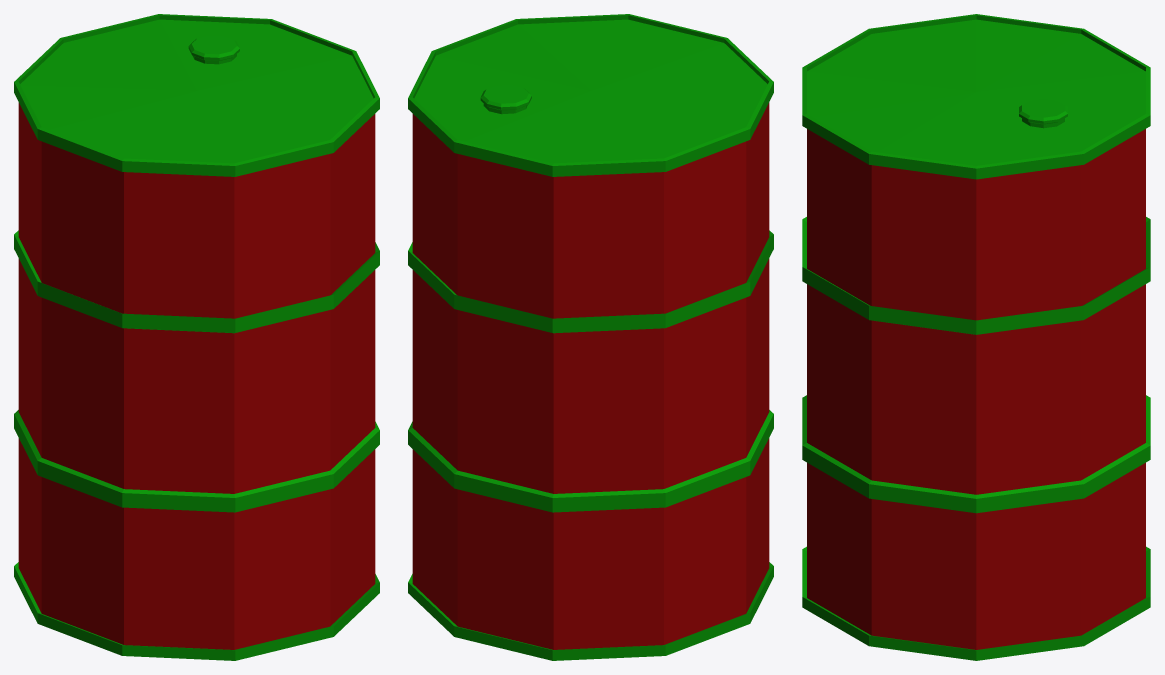
Rendered from IceBarrel.fbx.
3 views of the same model, side by side, from view 1: azimuth 30°, elevation 25°; view 2: azimuth 150°, elevation 25°; view 3: azimuth 270°, elevation 25° (orthographic).
Visible parts, largest first — view 1: Cylinder_1, Cylinder, Cylinder_2; view 2: Cylinder_1, Cylinder, Cylinder_2; view 3: Cylinder_1, Cylinder, Cylinder_2.
Boxes of the visible parts, <box> form: Cylinder_1: <box>18,102,375,649</box>; Cylinder: <box>14,14,379,660</box>; Cylinder_2: <box>188,35,239,64</box>; Cylinder_1: <box>412,102,769,649</box>; Cylinder: <box>408,14,773,660</box>; Cylinder_2: <box>480,84,531,114</box>; Cylinder_1: <box>807,129,1145,649</box>; Cylinder: <box>802,14,1150,660</box>; Cylinder_2: <box>1019,98,1067,128</box>.
Bounding box in the file's own units: 197 × 298 × 187.
